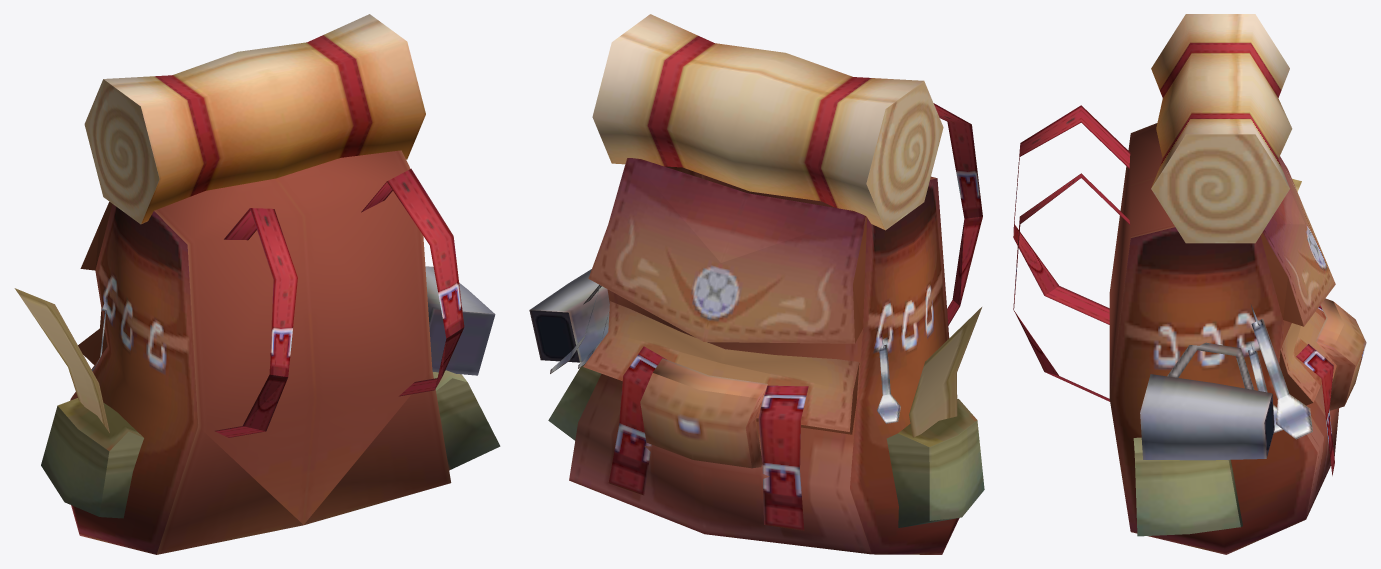
The model's file is acc_back0026.fbx.
3 renders of one model, left to right at view 1: azimuth 30°, elevation 25°; view 2: azimuth 150°, elevation 25°; view 3: azimuth 270°, elevation 25°, orthographic. The views are drawn at different scales.
Parts seen in each view (by area): view 1: acc_back0026_m; view 2: acc_back0026_m; view 3: acc_back0026_m.
Boxes of the visible parts, box(x1,y1,x2,y2) form: acc_back0026_m: box(14, 14, 500, 554); acc_back0026_m: box(529, 14, 984, 554); acc_back0026_m: box(1013, 14, 1366, 554).
Bounding box in the file's own units: 0.5573 × 0.5692 × 0.4461.
